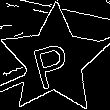P_N: (31, 31, 78, 89)
